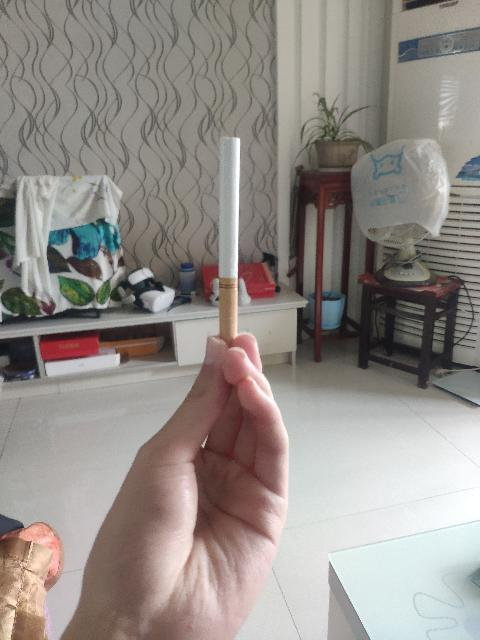Smoking: (218, 136, 242, 342)
